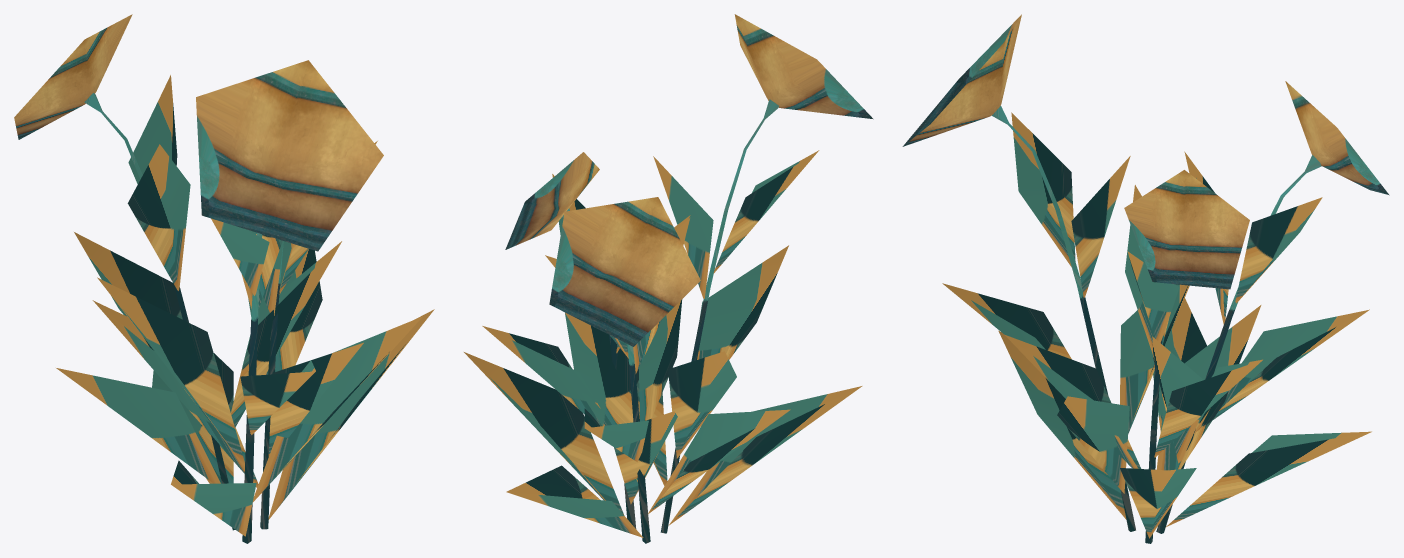
Rendered from SM_DaisyFlowers.glb.
3 renders of one model, left to right at view 1: azimuth 30°, elevation 25°; view 2: azimuth 150°, elevation 25°; view 3: azimuth 270°, elevation 25°, orthographic. The views are drawn at different scales.
Visible parts, largest first — view 1: SM_DaisyFlowers_LOD0; view 2: SM_DaisyFlowers_LOD0; view 3: SM_DaisyFlowers_LOD0.
Part boxes in pixels (x1,y1,x2,y2): SM_DaisyFlowers_LOD0: (14, 14, 434, 543); SM_DaisyFlowers_LOD0: (464, 14, 873, 543); SM_DaisyFlowers_LOD0: (902, 14, 1389, 543).
Size of the model in its own units: 0.7687 by 1.05 by 0.9566.
Materials: 1 (1 with a texture image).
